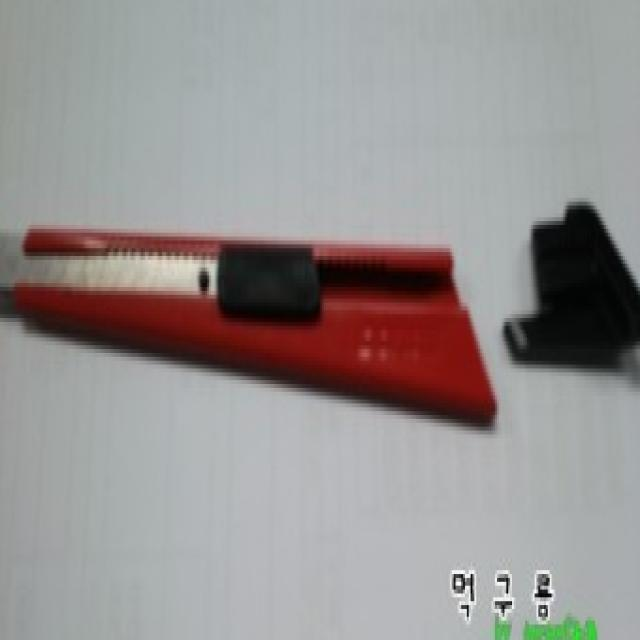cutter: (0, 194, 508, 455)
